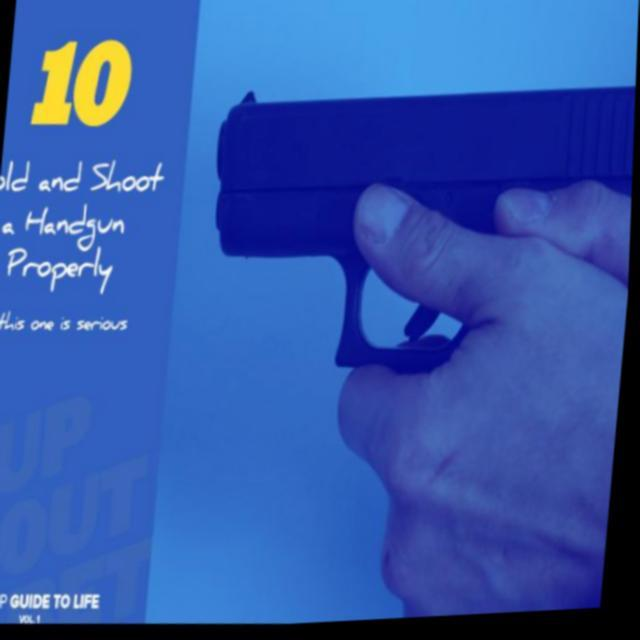weapon: (199, 51, 638, 398)
